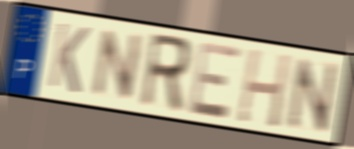E: (187, 39, 244, 122)
H: (234, 45, 294, 131)
K: (45, 19, 92, 97)
N: (286, 54, 341, 135), (88, 27, 147, 102)
R: (136, 30, 193, 116)
